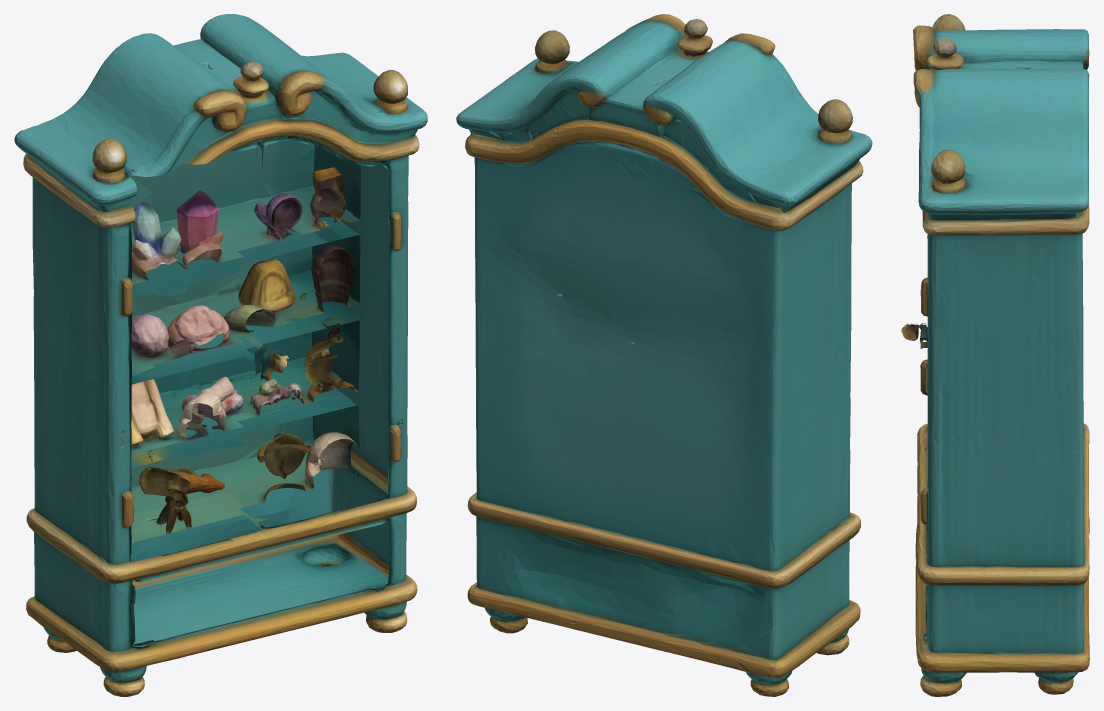
File: body.glb
3 views of the same model, side by side, from view 1: azimuth 30°, elevation 25°; view 2: azimuth 150°, elevation 25°; view 3: azimuth 270°, elevation 25° (orthographic).
Parts seen in each view (by area): view 1: source_surface_0; view 2: source_surface_0; view 3: source_surface_0.
Part boxes in pixels (box(x1,y1,x2,y2)): source_surface_0: box(14, 14, 427, 696); source_surface_0: box(456, 14, 872, 696); source_surface_0: box(901, 14, 1089, 696).
Bounding box in the file's own units: 0.5647 × 0.95 × 0.2769.
1 material, 1 textured.
